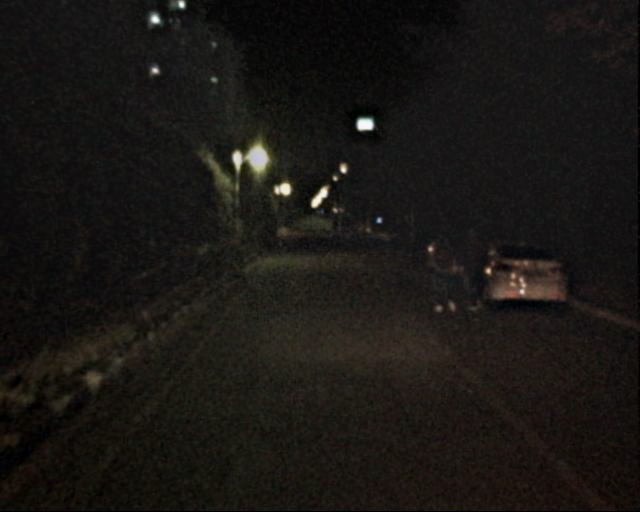person: (455, 223, 492, 314), (427, 233, 461, 316), (328, 221, 366, 250), (275, 216, 291, 255)
